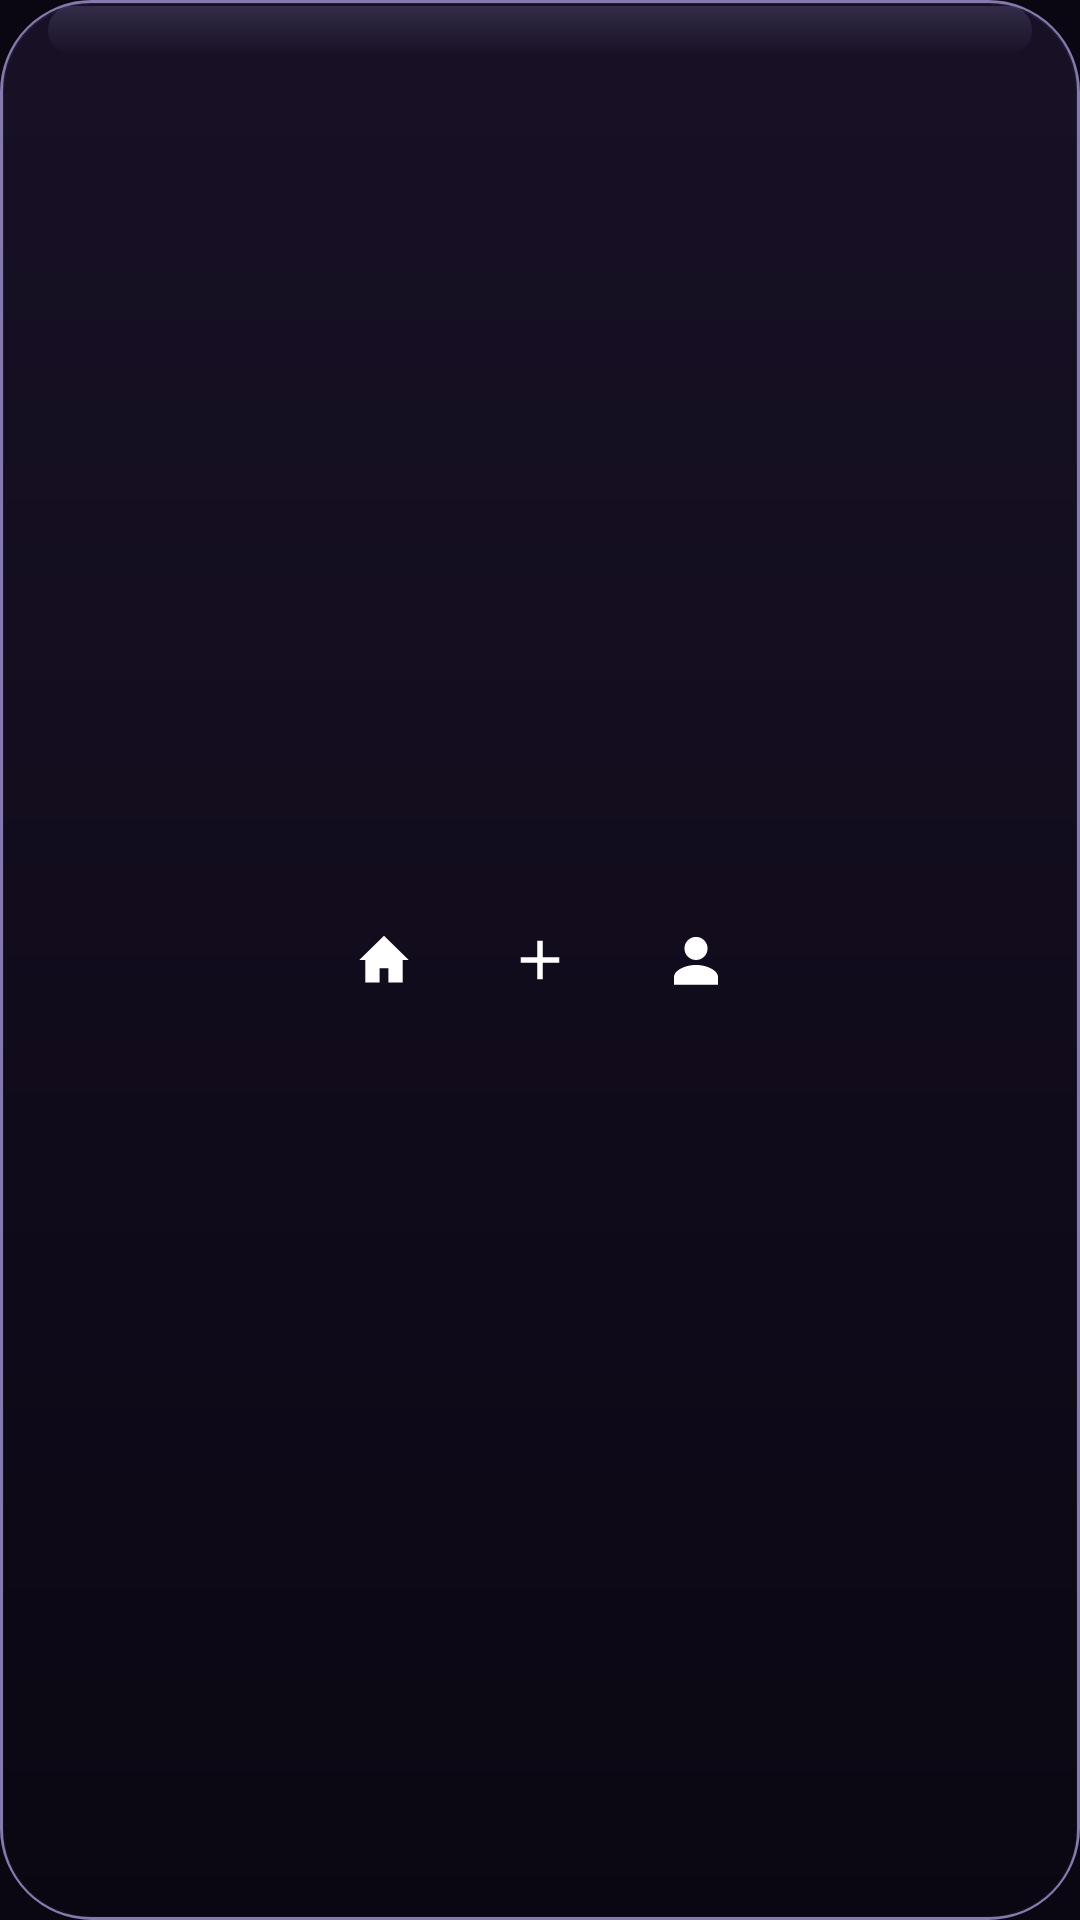

Locate icon controls on the screen. Image size 1080px×1920px, boxes as (x1, y1, x2, y2).
Account: (674, 937, 718, 985)
add: (520, 940, 560, 980)
Home: (359, 936, 409, 983)
